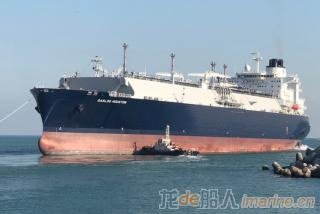Cargoship: (24, 41, 311, 158)
otherboat: (132, 126, 195, 157)
